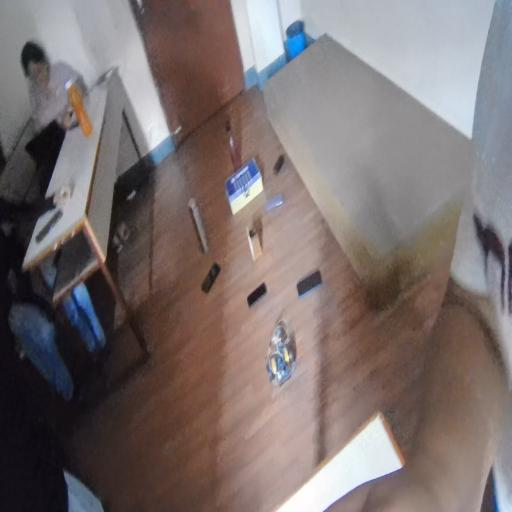Bottle: (218, 129, 245, 167)
car: (254, 341, 304, 401)
